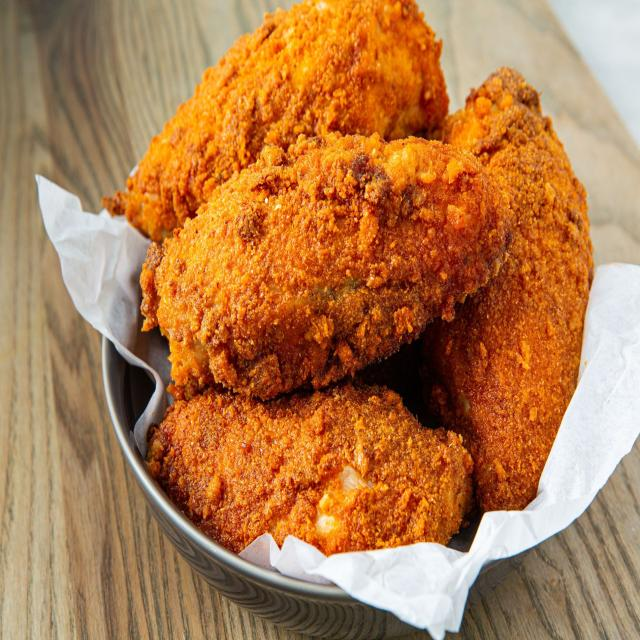Frango: (107, 0, 596, 562)
